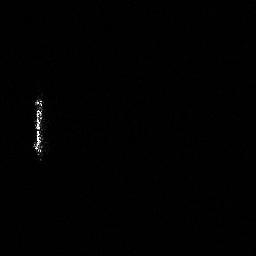ship: (28, 95, 50, 157)
